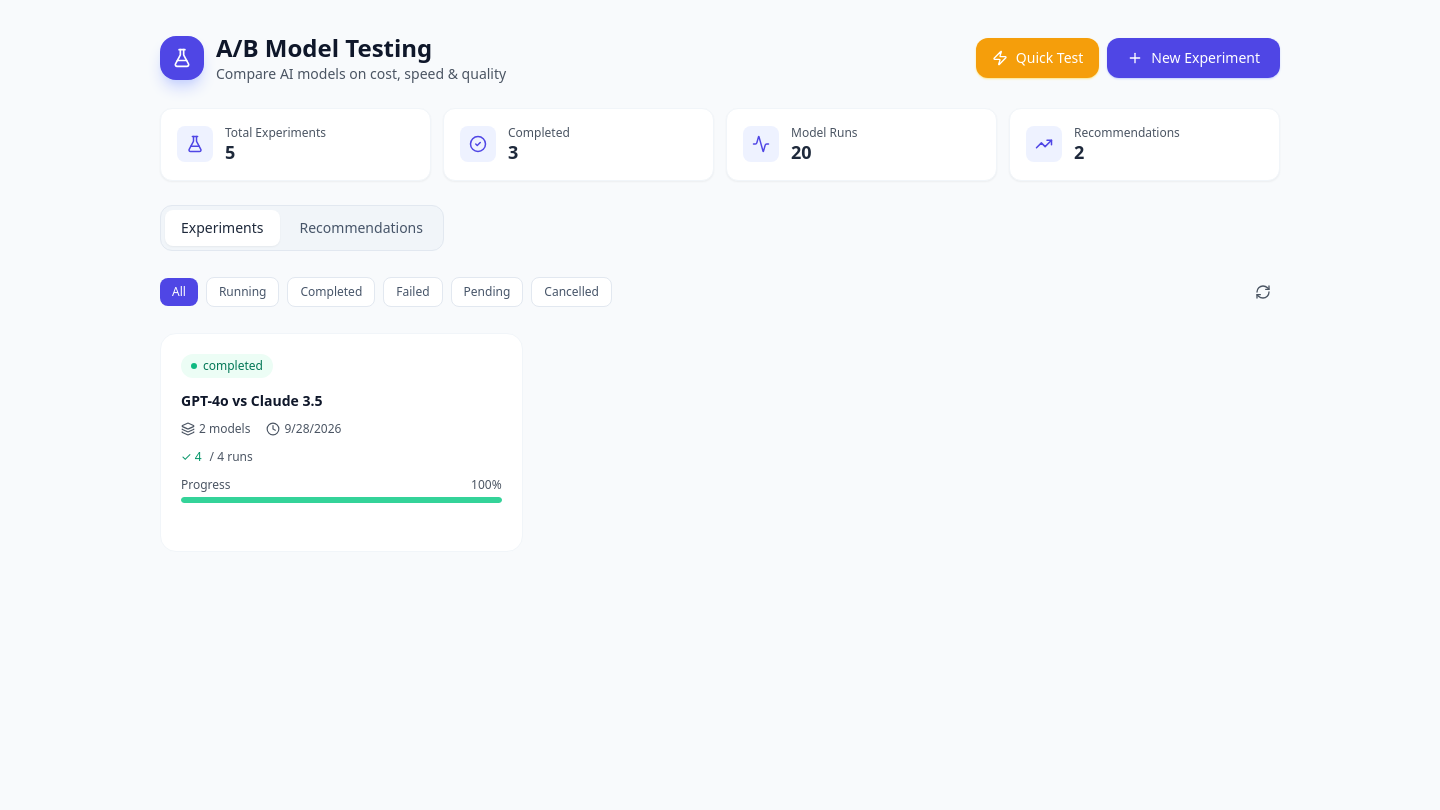
Scenario: 12.7.2 — Create/edit/delete experiments works › opens create experiment modal with required fields
The image size is (1440, 810).
Click the button "New Experiment".
click(1194, 58)  # box top-left (1107, 38), bottom-right (1280, 78)
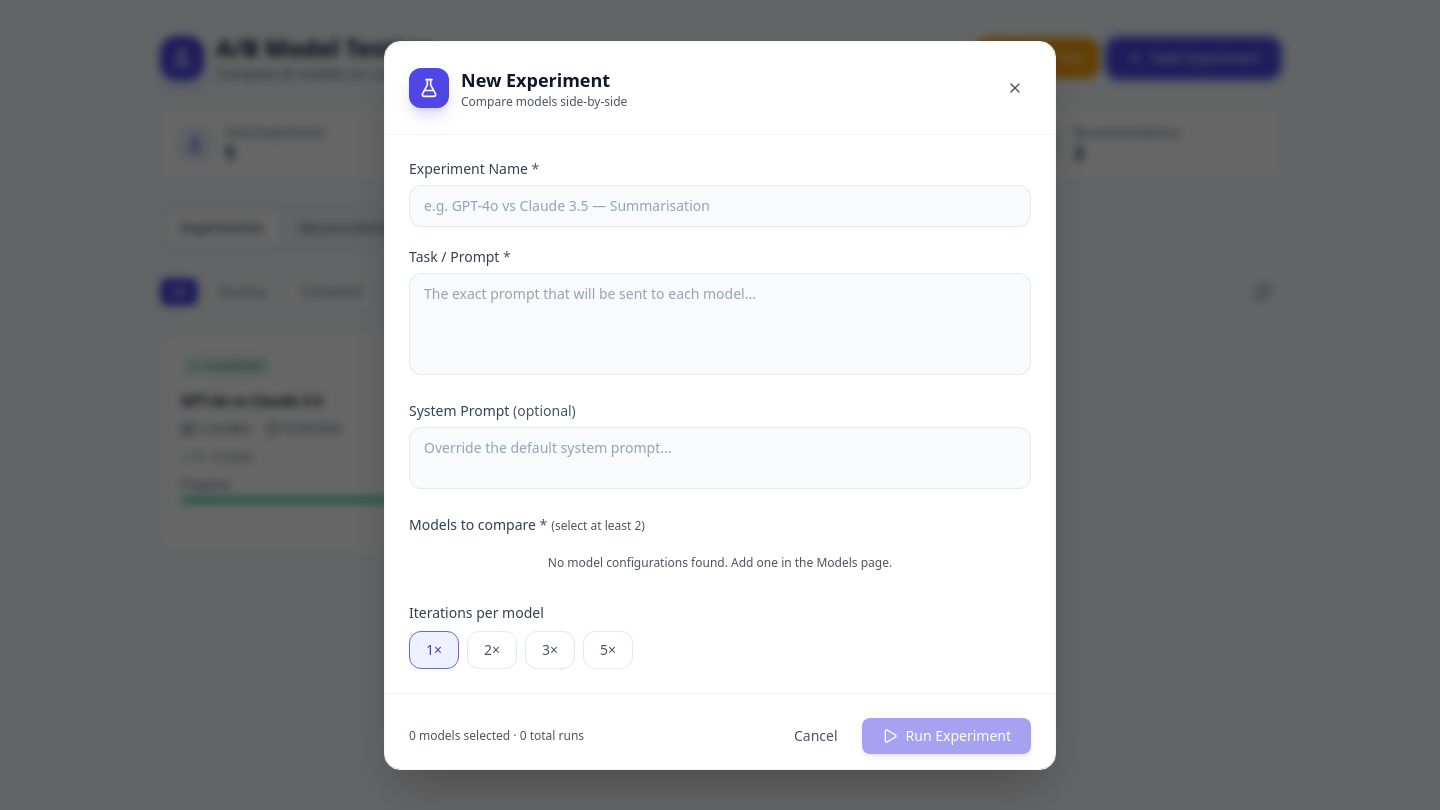
Check: the heading "New Experiment" is shown, box top-left (461, 66), bottom-right (627, 94)
Check: the field with placeholder "e.g. GPT-4o vs Claude 3.5 — Summarisation" is shown, box top-left (409, 184), bottom-right (1031, 226)
Check: the text box with placeholder "The exact prompt that will be sent to each model..." is shown, box top-left (409, 272), bottom-right (1031, 374)
